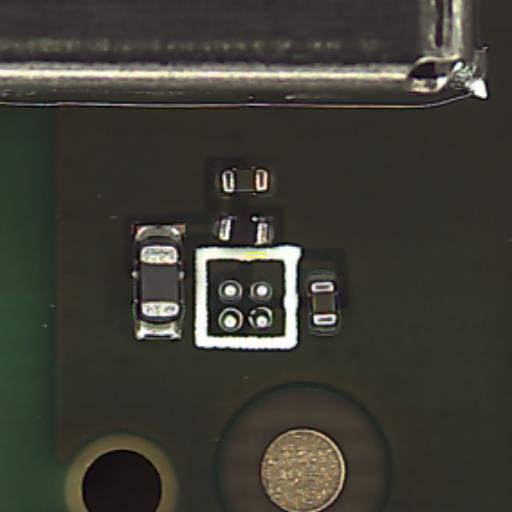bottom_layer: (132, 224, 184, 340), (309, 272, 338, 335), (215, 168, 273, 195)
top_layer: (141, 246, 178, 314), (212, 218, 274, 243), (219, 219, 267, 242), (310, 281, 335, 323), (222, 169, 267, 190)
